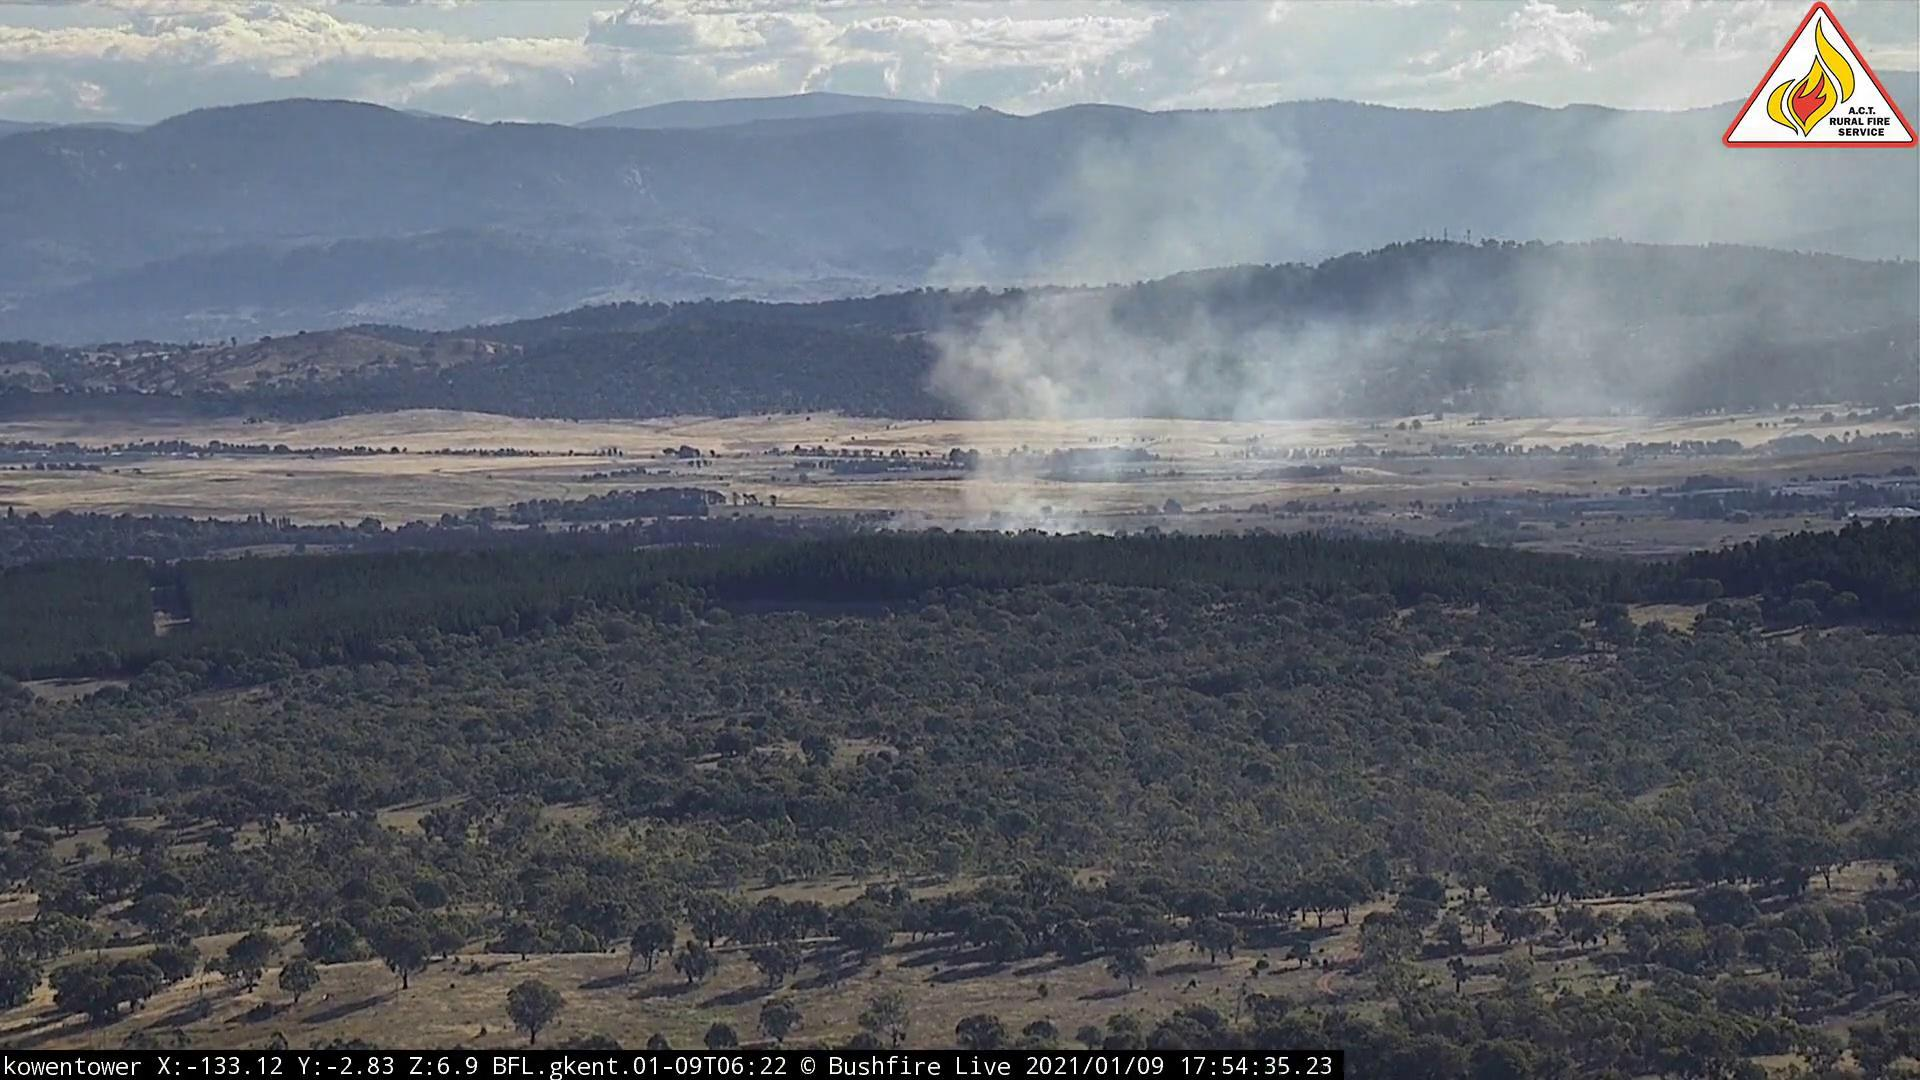instance_salient_object: (886, 92, 1721, 542)
